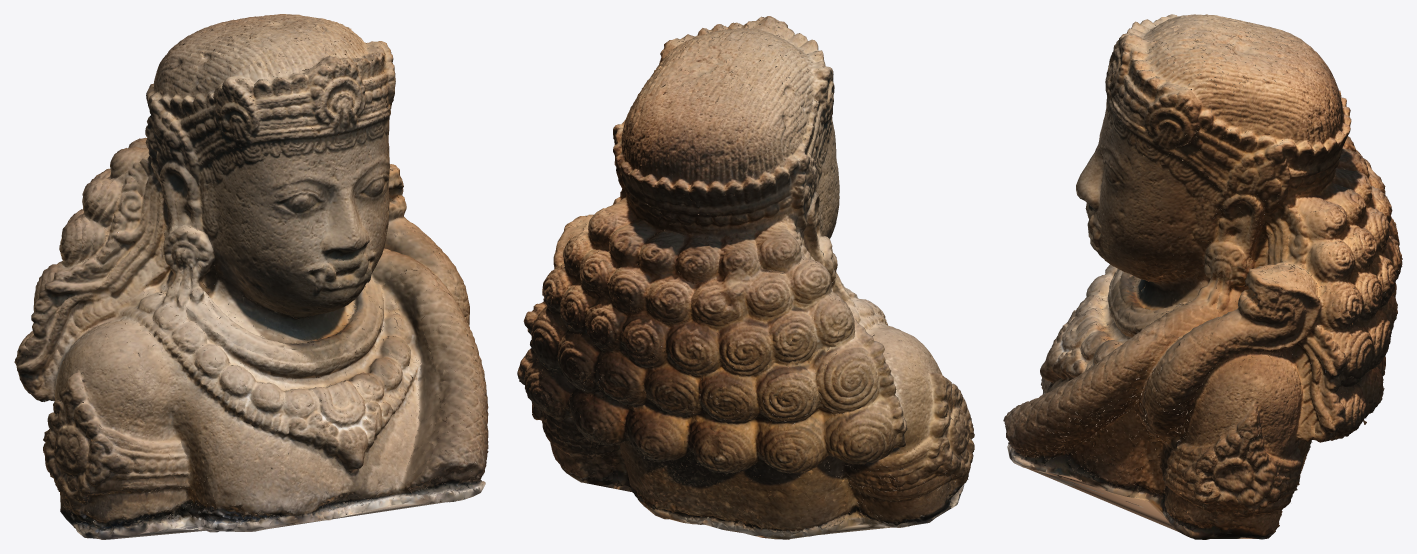
Rendered from obj_bhairava_3bfbab.glb.
3 views of the same model, side by side, from view 1: azimuth 30°, elevation 25°; view 2: azimuth 150°, elevation 25°; view 3: azimuth 270°, elevation 25° (orthographic). The views are drawn at different scales.
Visible parts, largest first — view 1: obj_bhairava_3bfbab; view 2: obj_bhairava_3bfbab; view 3: obj_bhairava_3bfbab.
Part boxes in pixels (x1=…): obj_bhairava_3bfbab: x1=14, y1=14, x2=488, y2=539; obj_bhairava_3bfbab: x1=517, y1=16, x2=974, y2=539; obj_bhairava_3bfbab: x1=1003, y1=14, x2=1402, y2=539.
Bounding box in the file's own units: 0.4641 × 0.4998 × 0.3989.
1 material, 1 textured.
